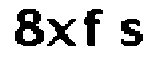8: (16, 3, 45, 49)
f: (77, 4, 106, 52)
s: (116, 18, 144, 51)
x: (48, 14, 77, 53)
